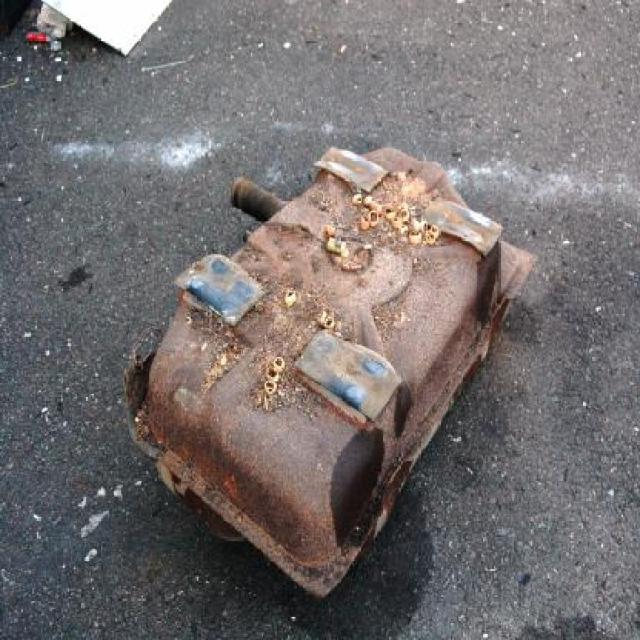corrosion: (129, 137, 536, 603)
